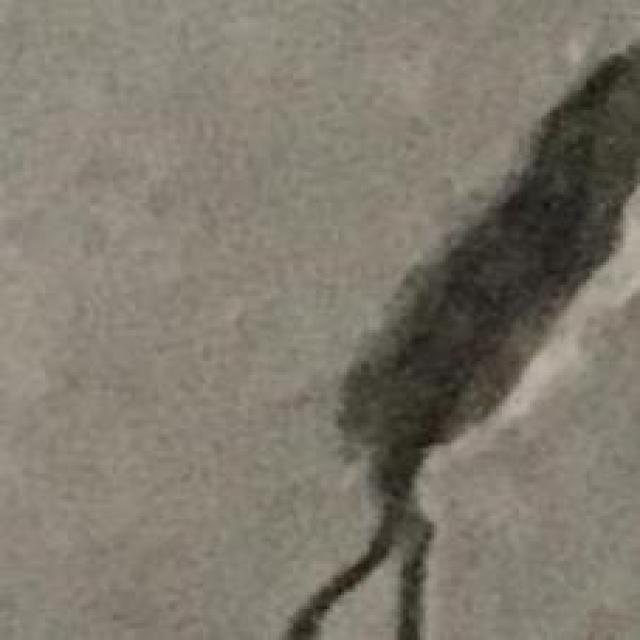Crack: (287, 40, 639, 640)
